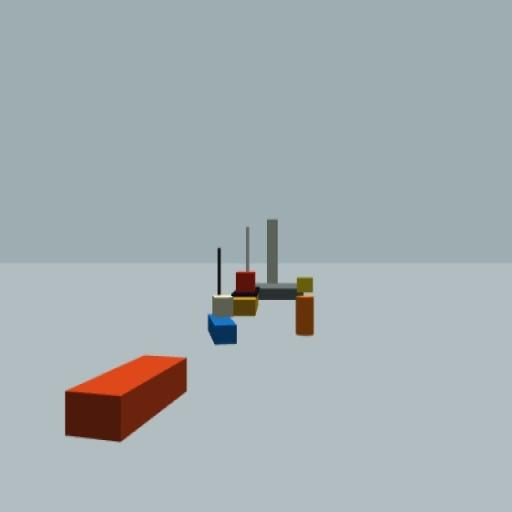buoy: (294, 277, 316, 337)
debris_container: (63, 352, 189, 445)
fishing_boat: (206, 249, 238, 347)
platform: (257, 220, 301, 299)
vessel: (230, 225, 257, 316)
